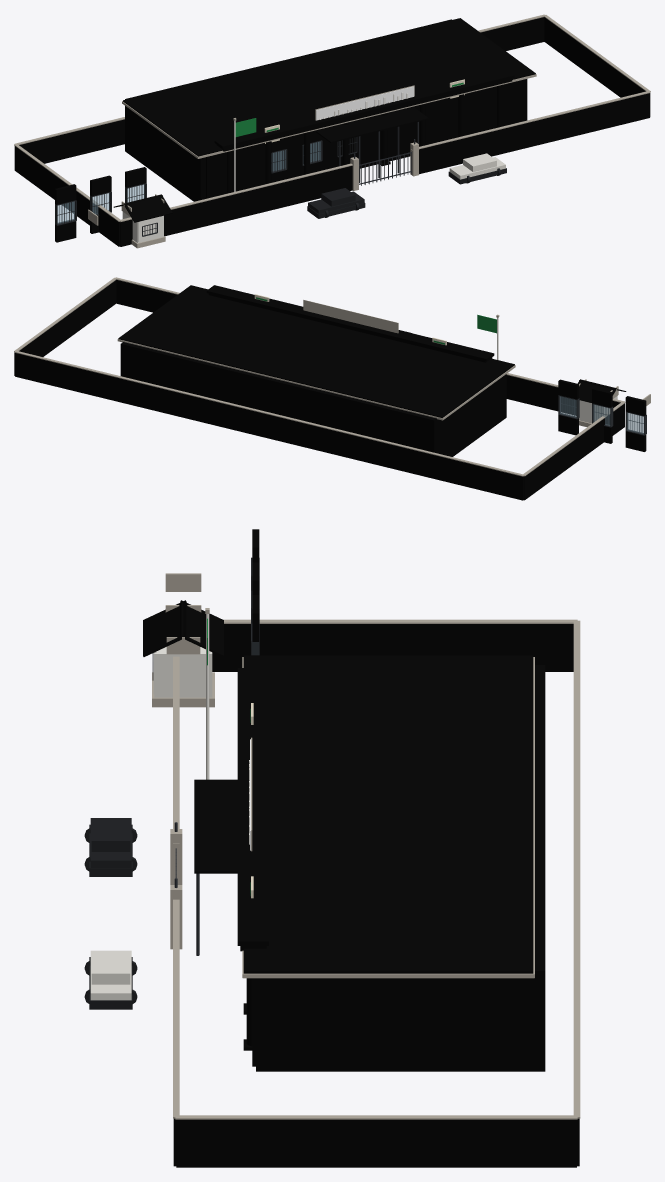
The model's file is judiciary.glb.
The picture shows the model from 3 angles, top to bottom: view 1: azimuth 30°, elevation 25°; view 2: azimuth 150°, elevation 25°; view 3: azimuth 270°, elevation 25°; orthographic projection. The views are drawn at different scales.
Visible parts, largest first — view 1: object 146, object 197, object 17, object 196, object 1, object 193, cornice, object 195, object 8, object 194, object 154, entablature (+17 smaller); view 2: object 146, object 1, object 193, cornice, object 194, object 195, object 196, object 198, object 197, object 161, object 147, entablature (+9 smaller); view 3: object 146, object 1, object 195, object 194, cornice, object 154, object 198, cabin (×2), object 226, object 200, object 150, object 199 (+4 smaller).
Part boxes in pixels (x1=…): object 146: x1=123, y1=18, x2=535, y2=156; object 197: x1=419, y1=93, x2=649, y2=174; object 17: x1=357, y1=80, x2=522, y2=168; object 196: x1=120, y1=165, x2=352, y2=246; object 1: x1=125, y1=19, x2=527, y2=201; object 193: x1=19, y1=17, x2=544, y2=163; cornice: x1=214, y1=69, x2=514, y2=148; object 195: x1=544, y1=17, x2=650, y2=116; object 8: x1=206, y1=143, x2=265, y2=198; object 194: x1=14, y1=146, x2=119, y2=246; object 154: x1=316, y1=107, x2=428, y2=142; entablature: x1=217, y1=78, x2=512, y2=151; object 146: x1=118, y1=285, x2=514, y2=418; object 1: x1=120, y1=342, x2=506, y2=456; object 193: x1=15, y1=353, x2=523, y2=500; cornice: x1=206, y1=285, x2=494, y2=361; object 194: x1=523, y1=403, x2=624, y2=500; object 195: x1=14, y1=280, x2=116, y2=375; object 196: x1=506, y1=375, x2=620, y2=415; object 198: x1=14, y1=350, x2=524, y2=476; object 197: x1=116, y1=280, x2=177, y2=312; object 161: x1=303, y1=299, x2=398, y2=333; object 147: x1=117, y1=339, x2=442, y2=420; entablature: x1=208, y1=293, x2=492, y2=362; object 146: x1=243, y1=655, x2=533, y2=973; object 1: x1=256, y1=665, x2=545, y2=1071; object 195: x1=176, y1=1119, x2=576, y2=1167; object 194: x1=212, y1=624, x2=573, y2=671; cornice: x1=237, y1=668, x2=268, y2=945; object 154: x1=194, y1=779, x2=237, y2=873; object 198: x1=573, y1=620, x2=580, y2=1118; cabin (×2): x1=91, y1=818, x2=130, y2=984; object 226: x1=154, y1=647, x2=212, y2=697; object 200: x1=175, y1=1115, x2=577, y2=1119; object 150: x1=242, y1=973, x2=534, y2=978; object 199: x1=223, y1=619, x2=577, y2=623.
Size of what is drawn, in the model's own units: 52.75 by 8.16 by 20.53.
